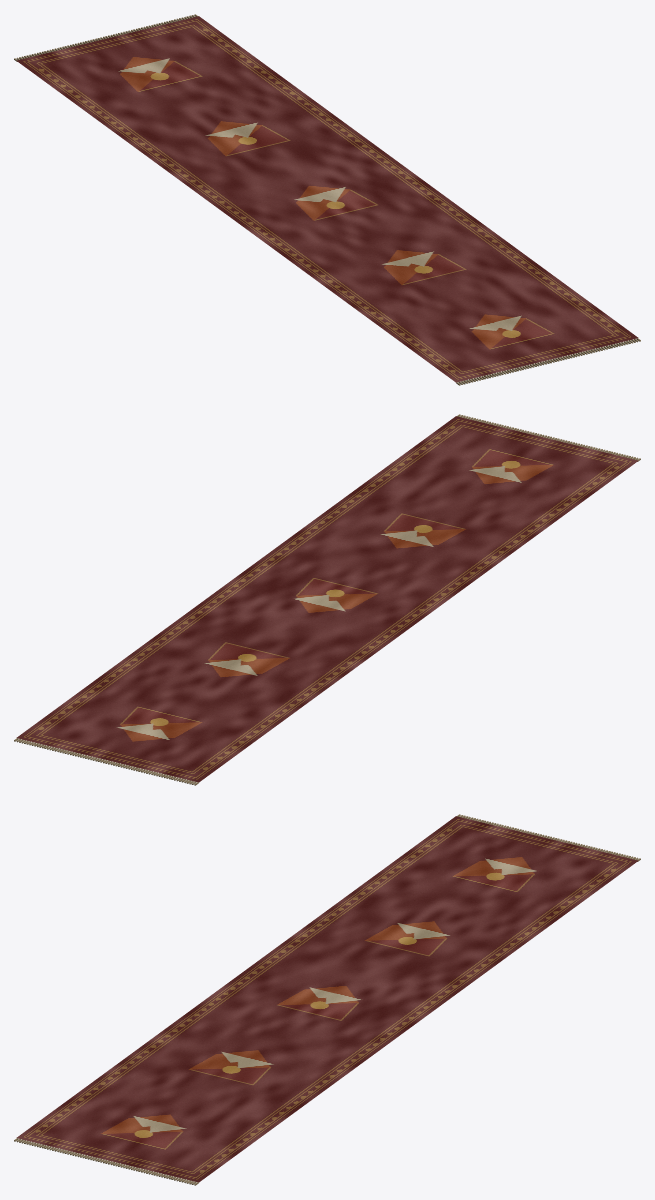
Rendered from carpet_worn_runner.glb.
3 views of the same model, one above another, from view 1: azimuth 30°, elevation 25°; view 2: azimuth 150°, elevation 25°; view 3: azimuth 330°, elevation 25° (orthographic).
Parts seen in each view (by area): view 1: Carpet_Worn_Runner_000; view 2: Carpet_Worn_Runner_000; view 3: Carpet_Worn_Runner_000.
Part boxes in pixels (<box>): Carpet_Worn_Runner_000: <box>16,16,638,382</box>; Carpet_Worn_Runner_000: <box>16,416,638,782</box>; Carpet_Worn_Runner_000: <box>16,816,638,1182</box>.
Size of the model in its own units: 1.8 by 0.0115 by 7.6.
Materials: 2 (2 with a texture image).
